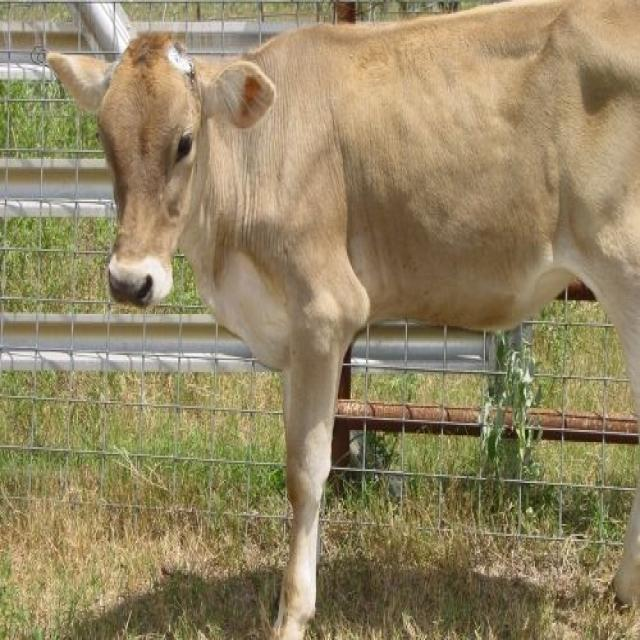cowFace: (40, 24, 275, 311)
